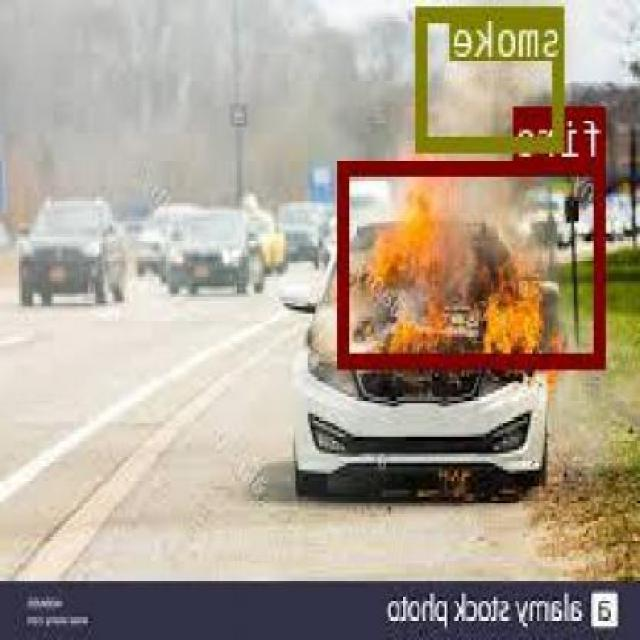Fire: (340, 160, 608, 366)
Smoke: (418, 4, 564, 150)
